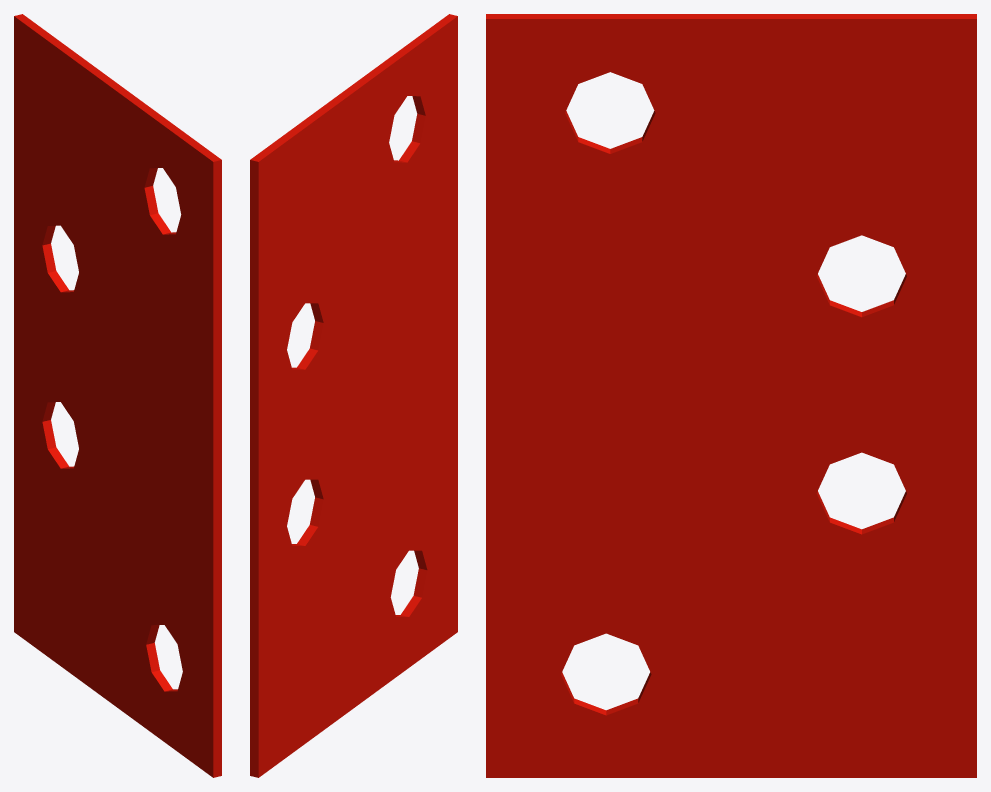
File: board01.fbx
3 renders of one model, left to right at view 1: azimuth 30°, elevation 25°; view 2: azimuth 150°, elevation 25°; view 3: azimuth 270°, elevation 25°, orthographic. The views are drawn at different scales.
Visible parts, largest first — view 1: Plane.008; view 2: Plane.008; view 3: Plane.008.
Part boxes in pixels (left/top/right/bottom): Plane.008: left=14, top=14, right=221, bottom=777; Plane.008: left=250, top=14, right=457, bottom=777; Plane.008: left=486, top=14, right=976, bottom=777.
Size of the model in its own units: 9 by 617 by 362.
